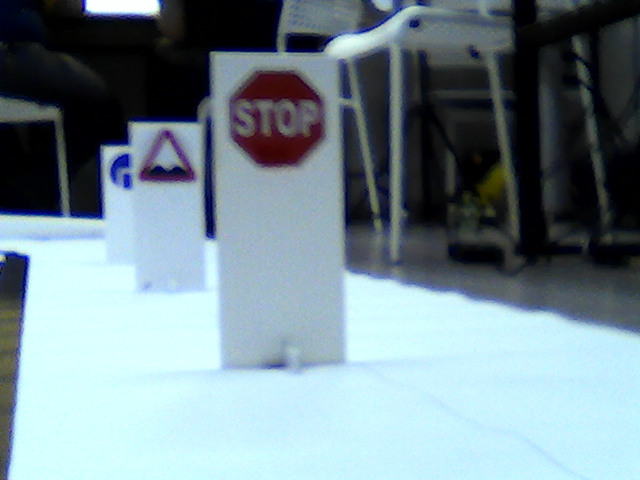Nerov: (135, 127, 198, 182)
Stop: (224, 68, 328, 167)
